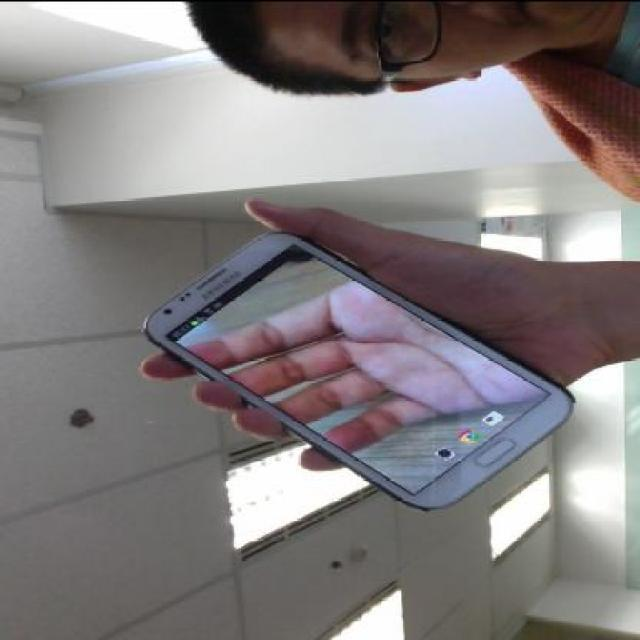phone: (140, 230, 577, 510)
